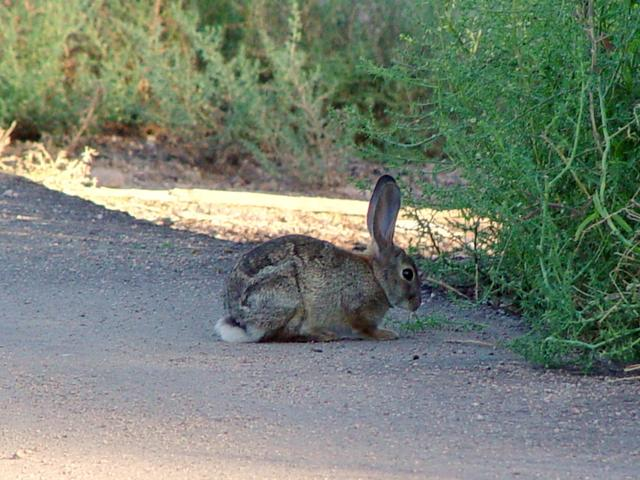rabbit: (188, 154, 495, 355)
